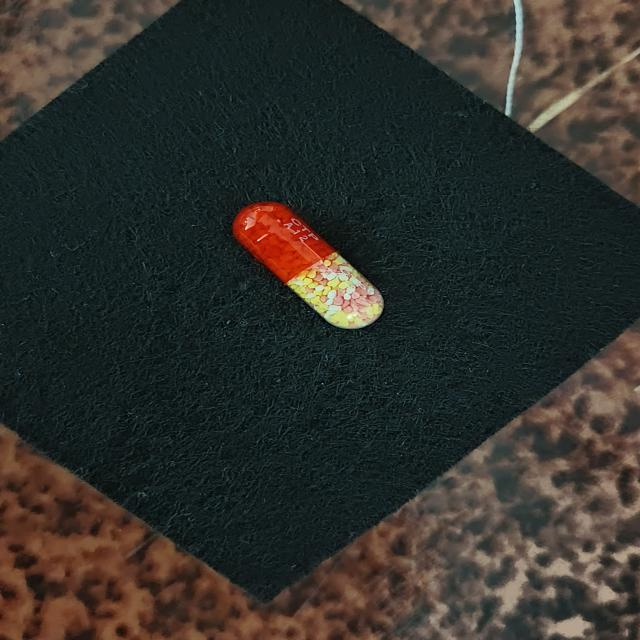Intact Capsule: (232, 201, 384, 329)
